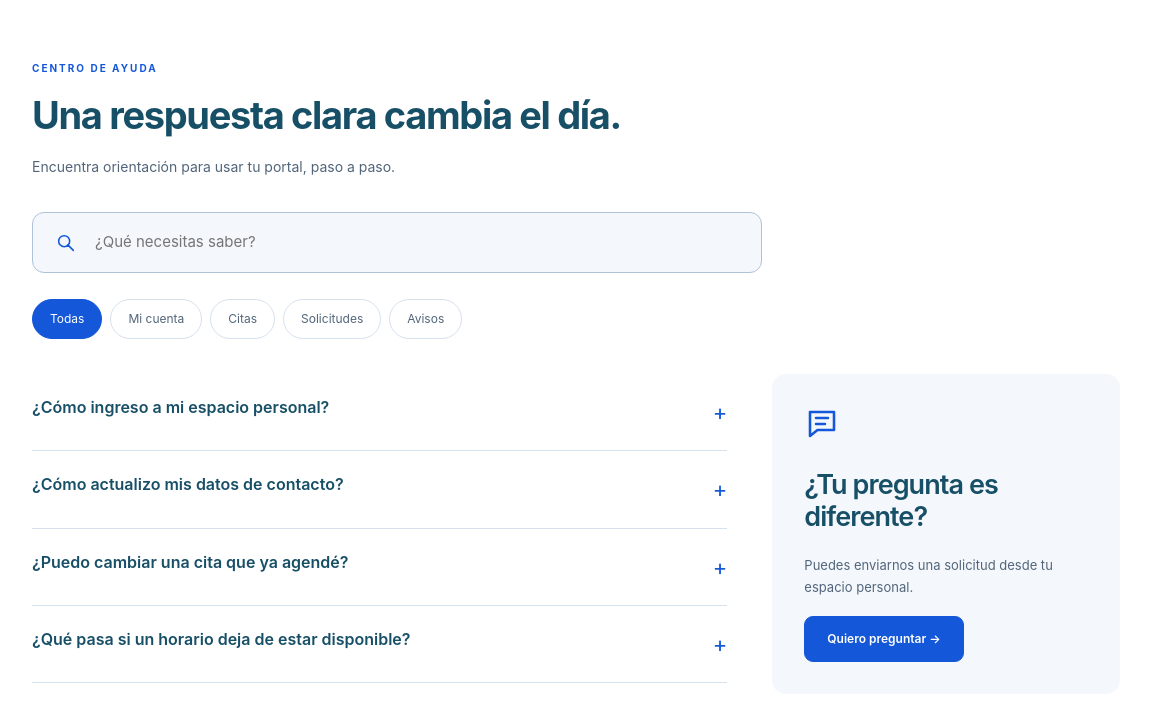
Scenario: preguntas frecuentes permiten buscar y filtrar
Type "reprogramar" into the field named "Buscar una pregunta" at coordinates (416, 243), box [93,229,739,256]
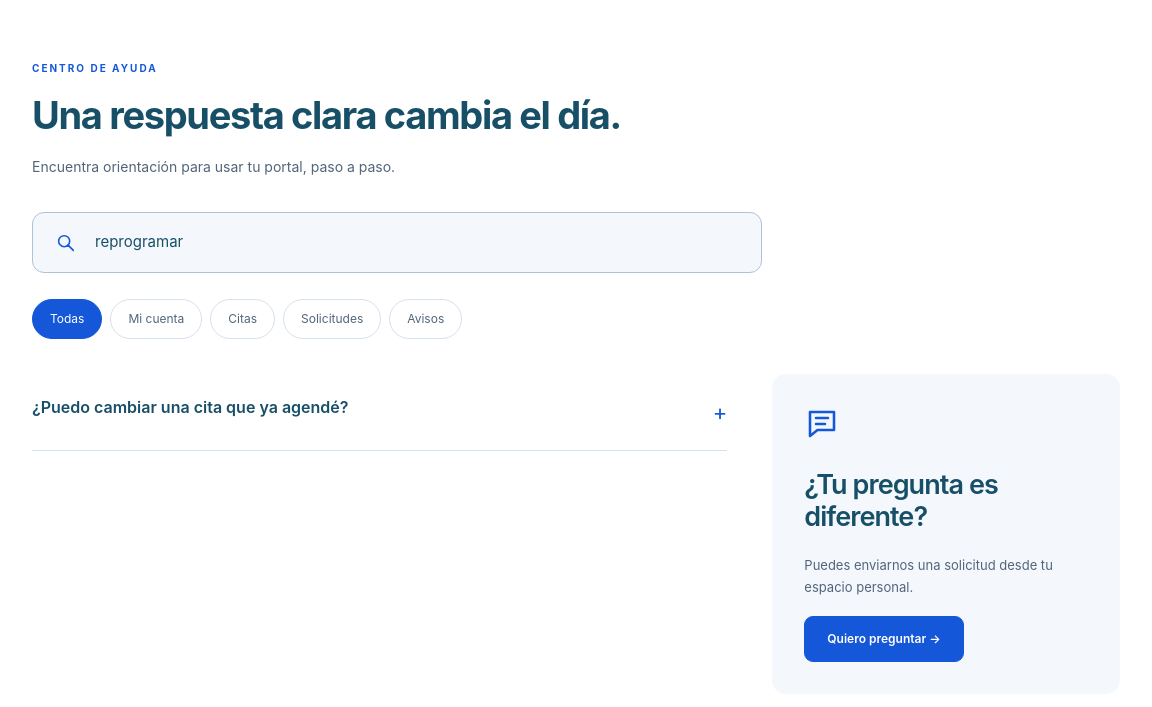
Expected: the heading "¿Puedo cambiar una cita que ya agendé? +" is shown, [32,394,727,430]
Expected: the heading "¿Cómo ingreso a mi espacio personal?" is gone
